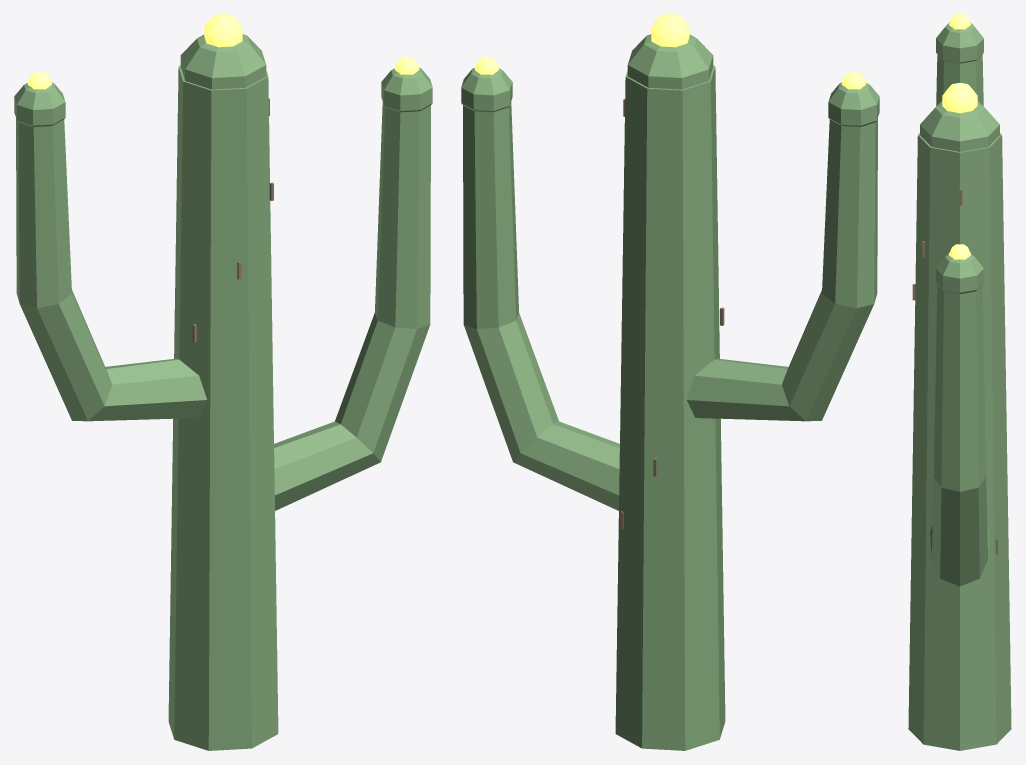
The model's file is cactus.glb.
3 renders of one model, left to right at view 1: azimuth 30°, elevation 25°; view 2: azimuth 150°, elevation 25°; view 3: azimuth 270°, elevation 25°, orthographic. The views are drawn at different scales.
Visible parts, largest first — view 1: Cactus; view 2: Cactus; view 3: Cactus.
Part boxes in pixels (<box>): Cactus: <box>14,14,432,750</box>; Cactus: <box>461,14,879,750</box>; Cactus: <box>908,14,1011,750</box>.
Bounding box in the file's own units: 4.61 × 7.6 × 1.1.
